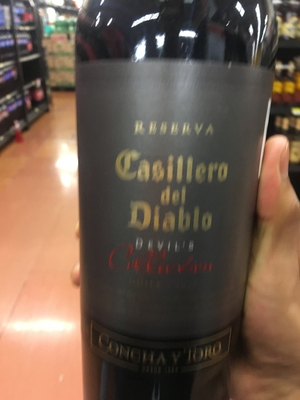casillero del diablo devils collection rojo: (74, 3, 267, 400)
